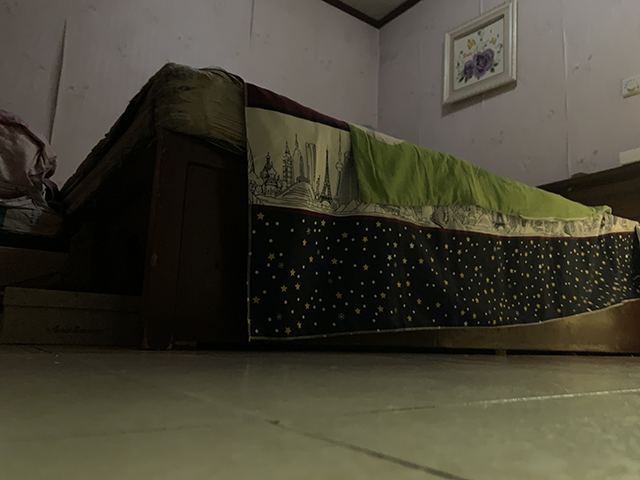bed: (56, 62, 640, 359)
